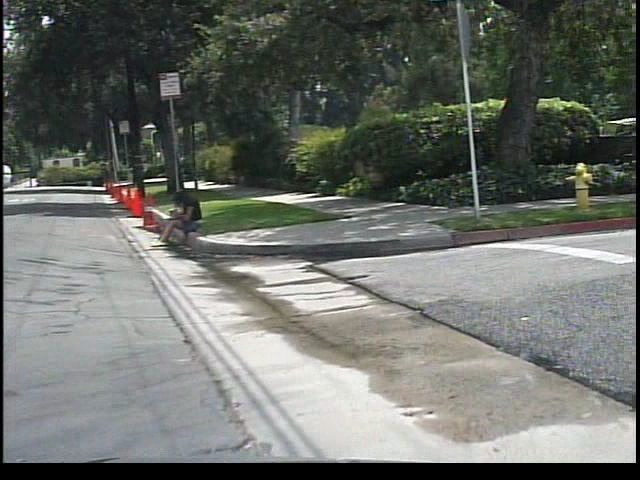person: (156, 189, 215, 249)
